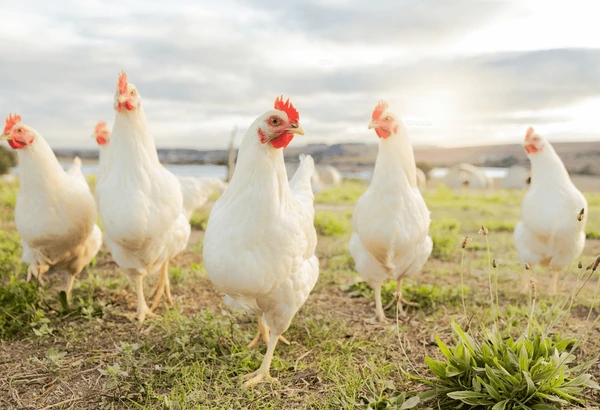Healthy: (200, 93, 325, 401), (90, 70, 195, 337), (1, 105, 102, 321), (347, 97, 438, 333), (509, 116, 592, 306)
